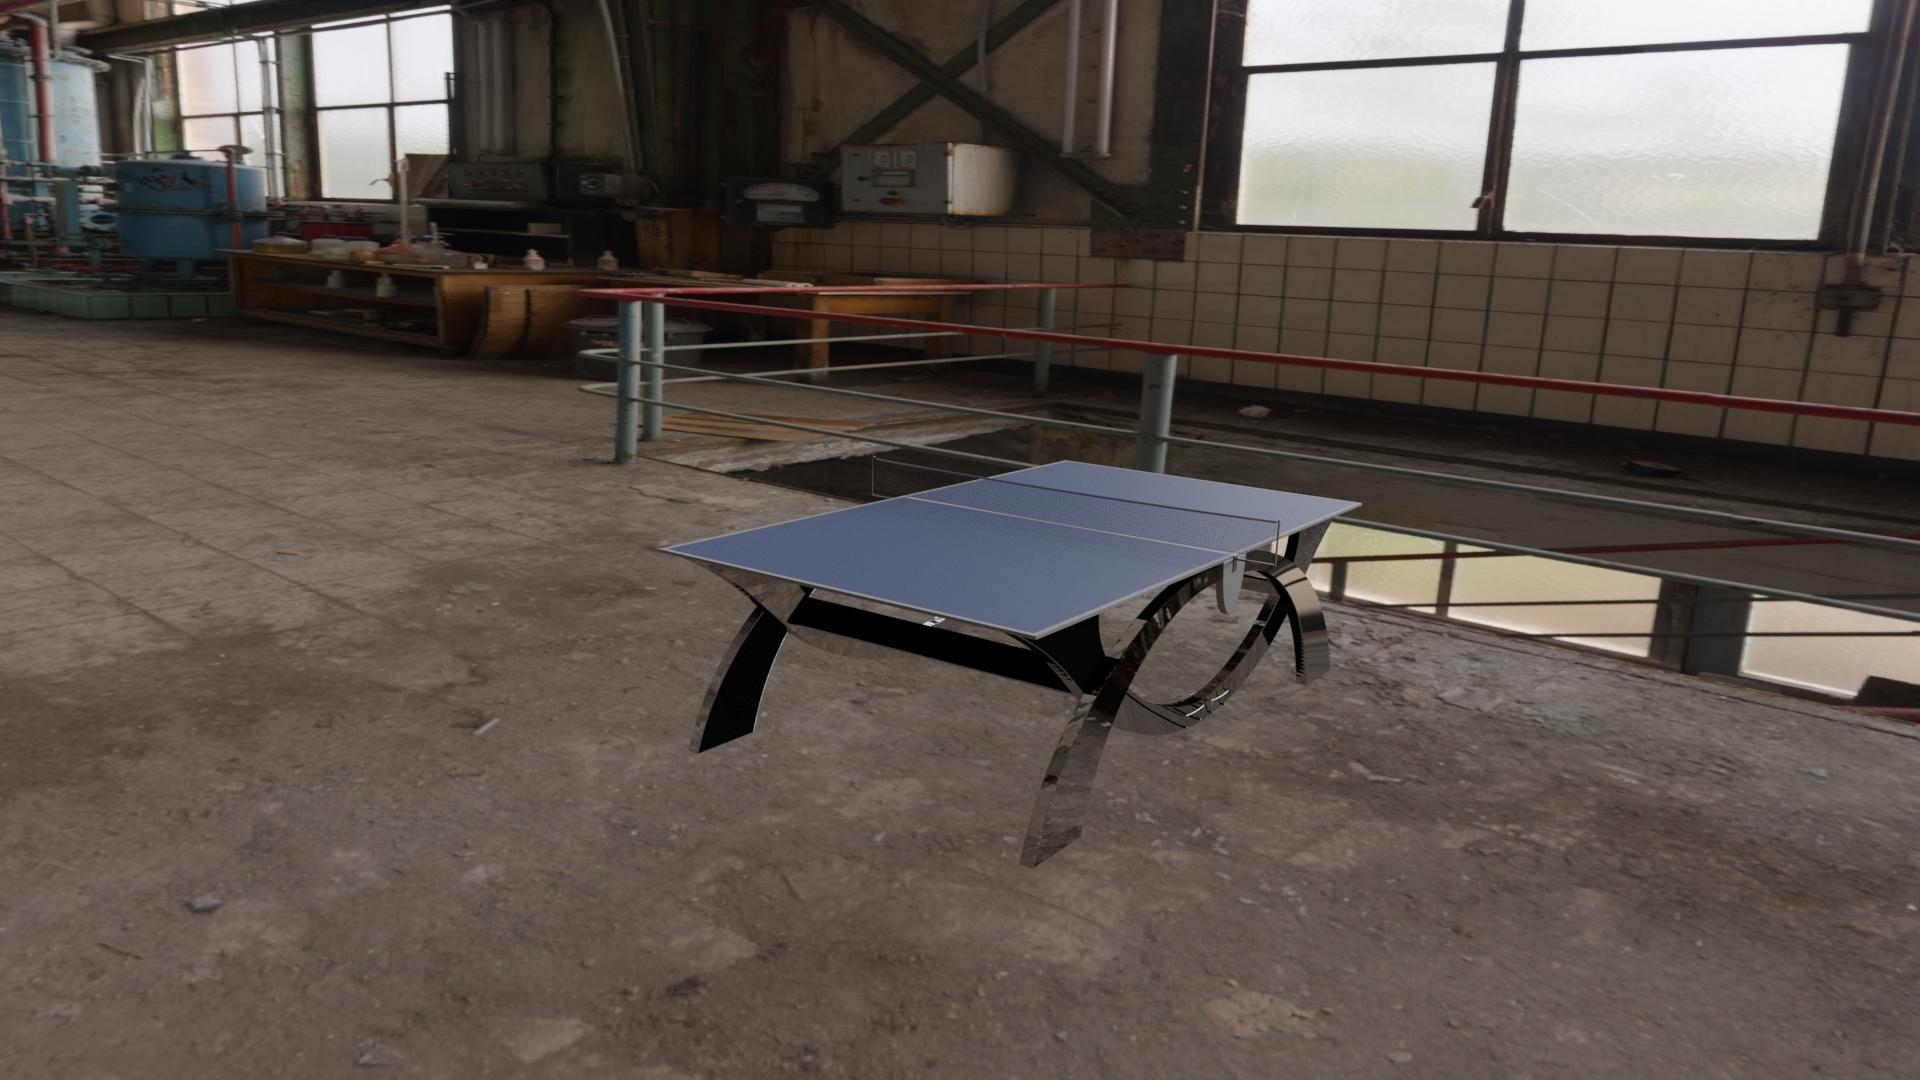table: (667, 462, 1356, 633)
